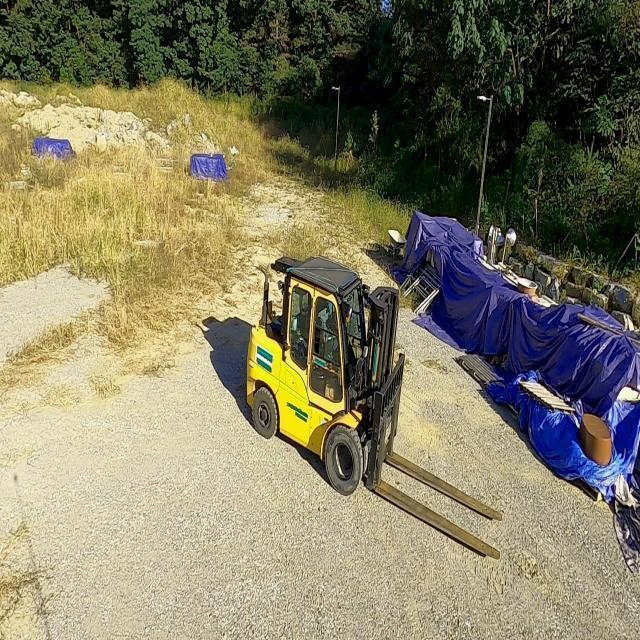forklift: (242, 255, 403, 493)
